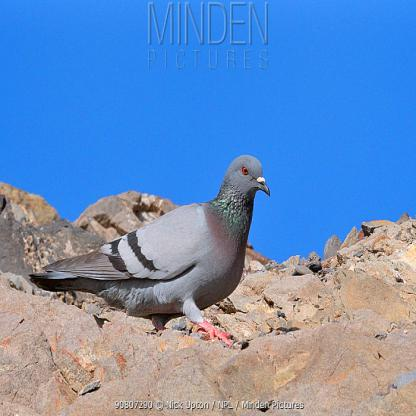Rock Pigeon: (30, 156, 273, 318)
